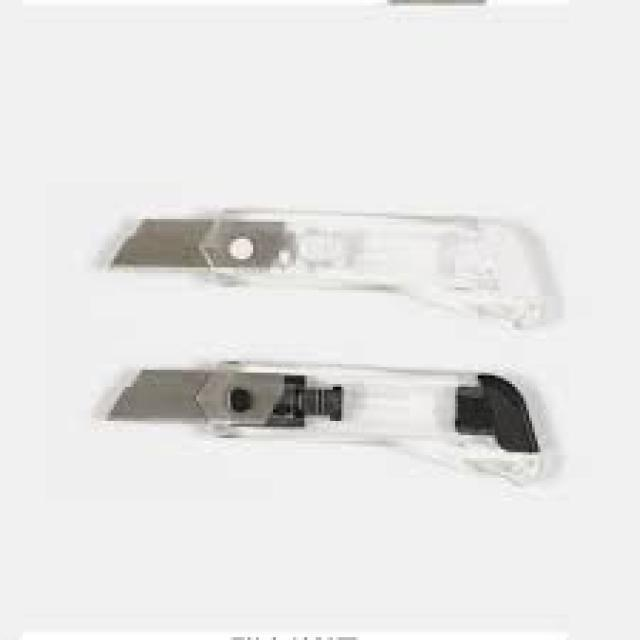cutter: (101, 188, 568, 344), (103, 354, 552, 489)
